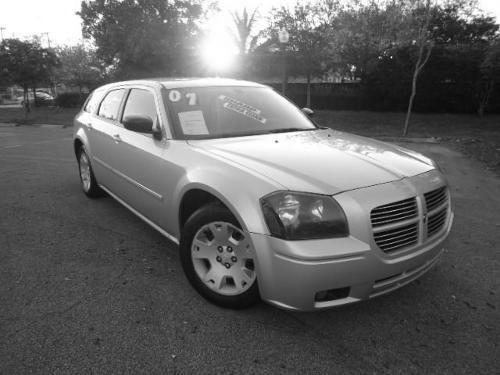car: (72, 75, 458, 317)
